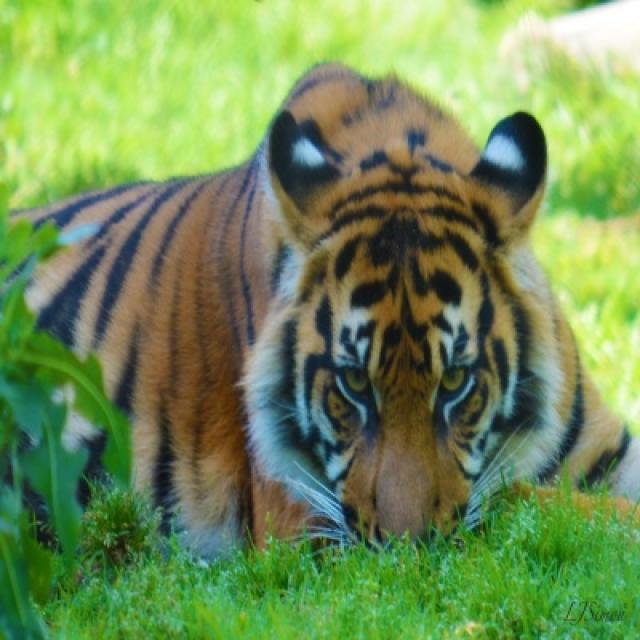Tiger: (1, 64, 638, 578)
